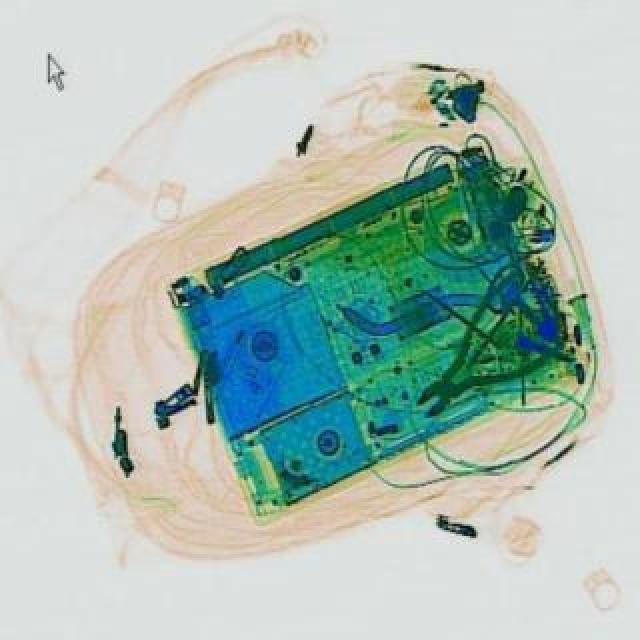wrench: (384, 264, 580, 442)
